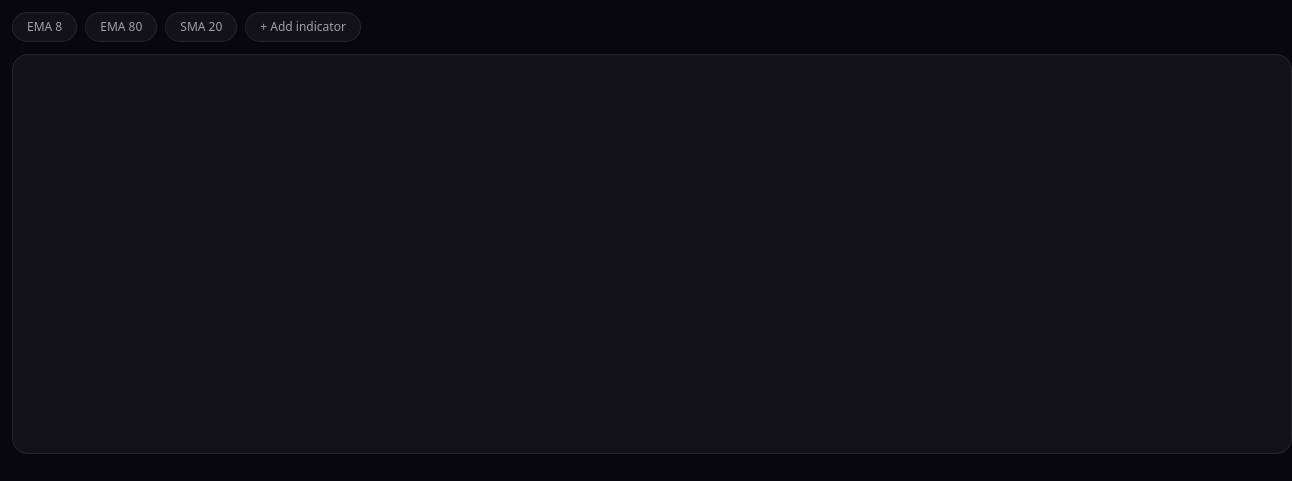
Test: CandlestickChart › disables Add while the period is empty or non-positive
This screenshot has width=1292, height=481.
Click the button "+ Add indicator".
click(303, 27)  # box [245, 12, 361, 42]
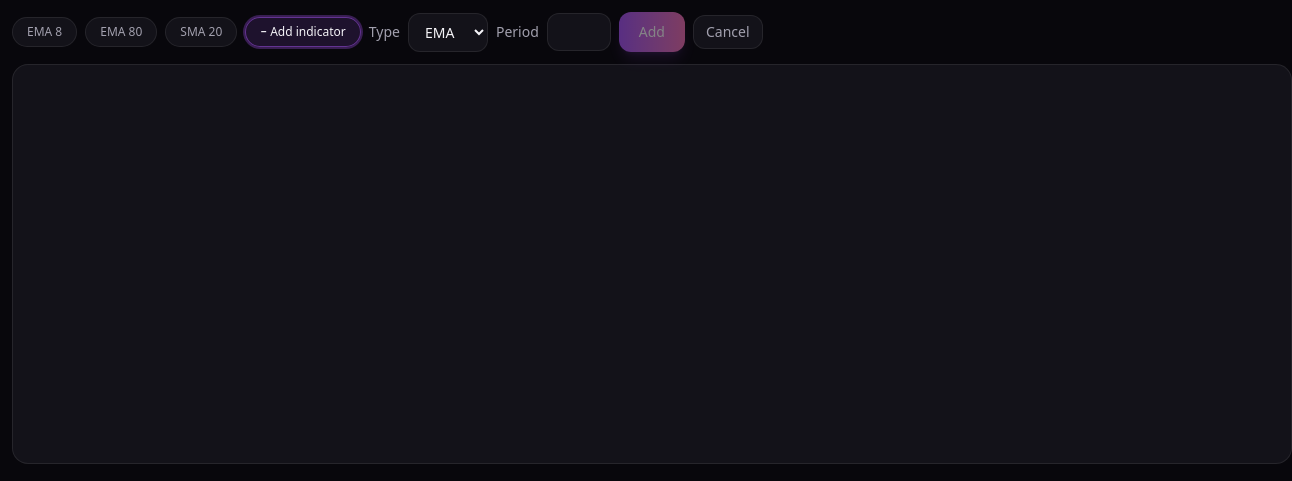
Now the button "Add" is disabled, box [619, 12, 685, 52]
Type "0" into the number field labelled "Period".
click(579, 32); type("0")  # box [547, 13, 611, 51]
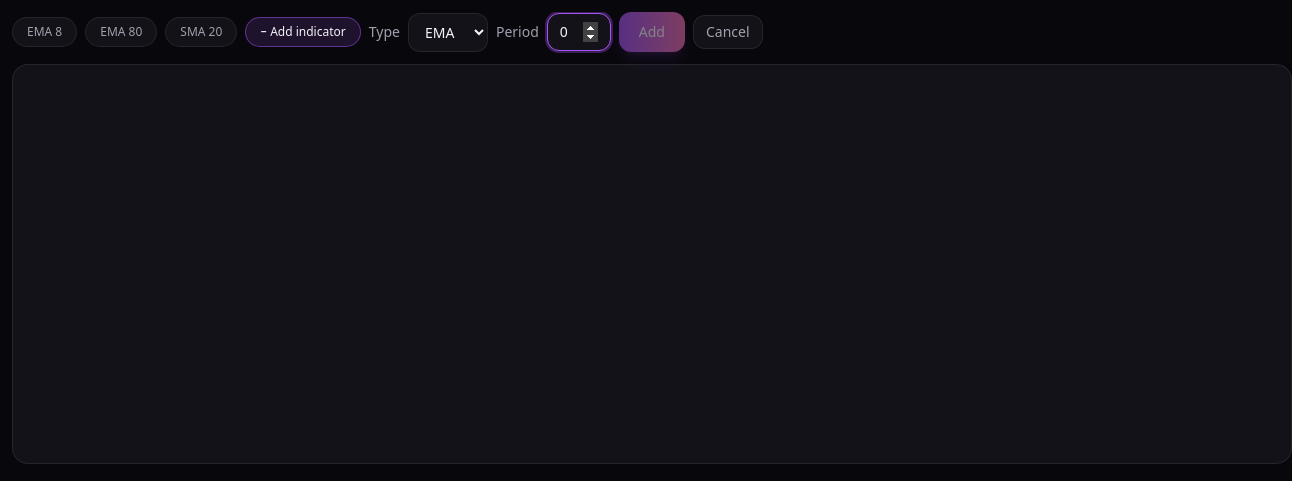
Now the button "Add" is disabled, box [619, 12, 685, 52]
Replace the text in the number field labelled "Period" with "-5" at point(579, 32), box [547, 13, 611, 51]
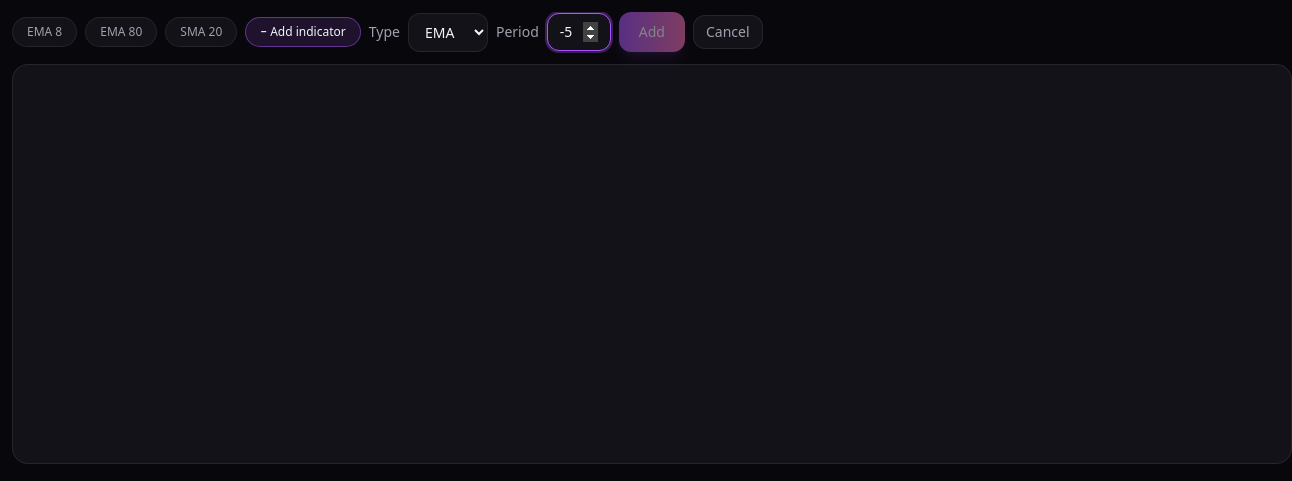
Now the button "Add" is disabled, box [619, 12, 685, 52]
Replace the text in the number field labelled "Period" with "21" at point(579, 32), box [547, 13, 611, 51]
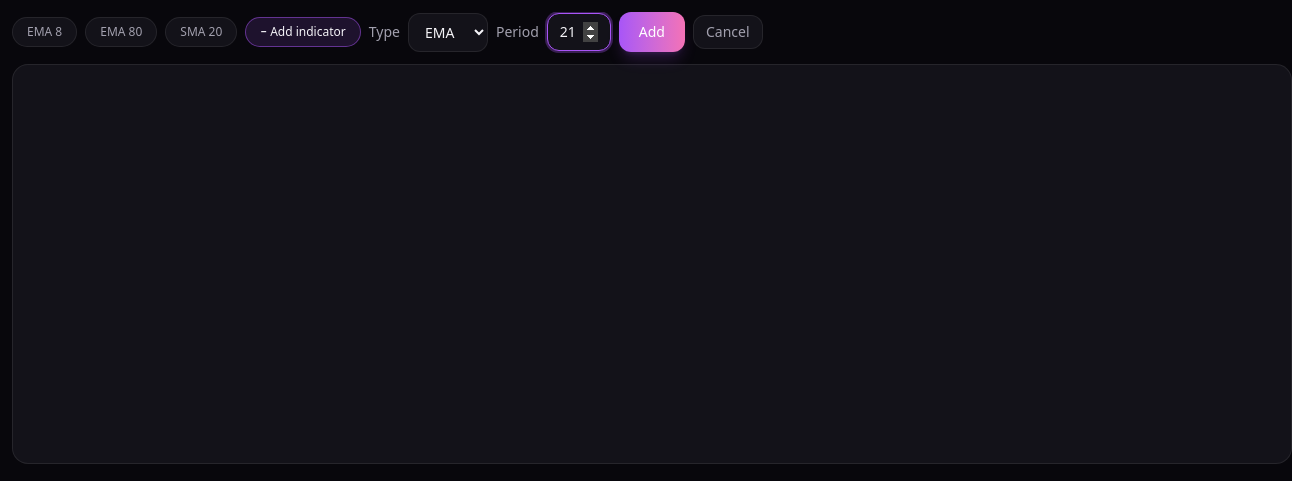
Now the button "Add" is enabled, box [619, 12, 685, 52]
